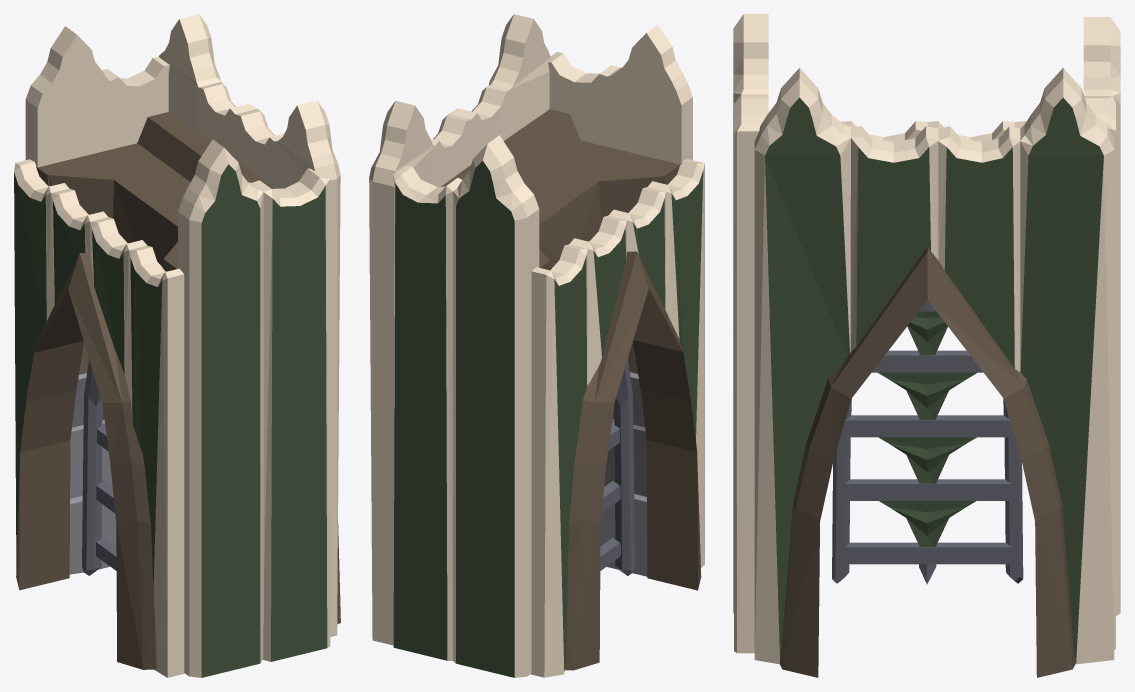
Rendered from _minnor_gates_2.fbx.
3 views of the same model, side by side, from view 1: azimuth 30°, elevation 25°; view 2: azimuth 150°, elevation 25°; view 3: azimuth 270°, elevation 25° (orthographic). The views are drawn at different scales.
Visible parts, largest first — view 1: minnor_gates_2; view 2: minnor_gates_2; view 3: minnor_gates_2.
Boxes of the visible parts, <box> form: minnor_gates_2: <box>14,14,340,677</box>; minnor_gates_2: <box>369,14,704,677</box>; minnor_gates_2: <box>733,14,1120,677</box>.
Bounding box in the file's own units: 414 × 927 × 557.
